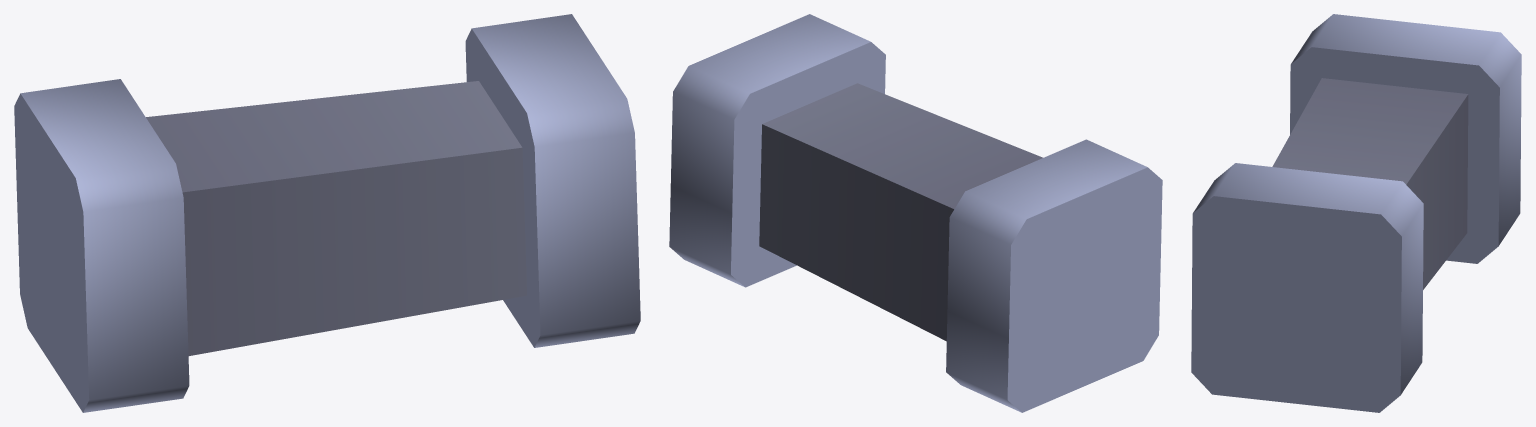
The model's file is column.008_lev4.glb.
3 views of the same model, side by side, from view 1: azimuth 30°, elevation 25°; view 2: azimuth 150°, elevation 25°; view 3: azimuth 270°, elevation 25° (orthographic). The views are drawn at different scales.
Visible parts, largest first — view 1: column.008_lev4; view 2: column.008_lev4; view 3: column.008_lev4.
Boxes of the visible parts, x1=… form: column.008_lev4: x1=14, y1=14, x2=640, y2=412; column.008_lev4: x1=669, y1=14, x2=1162, y2=412; column.008_lev4: x1=1191, y1=14, x2=1521, y2=412.
Bounding box in the file's own units: 10.89 × 4.82 × 6.92.
1 material, 1 textured.
